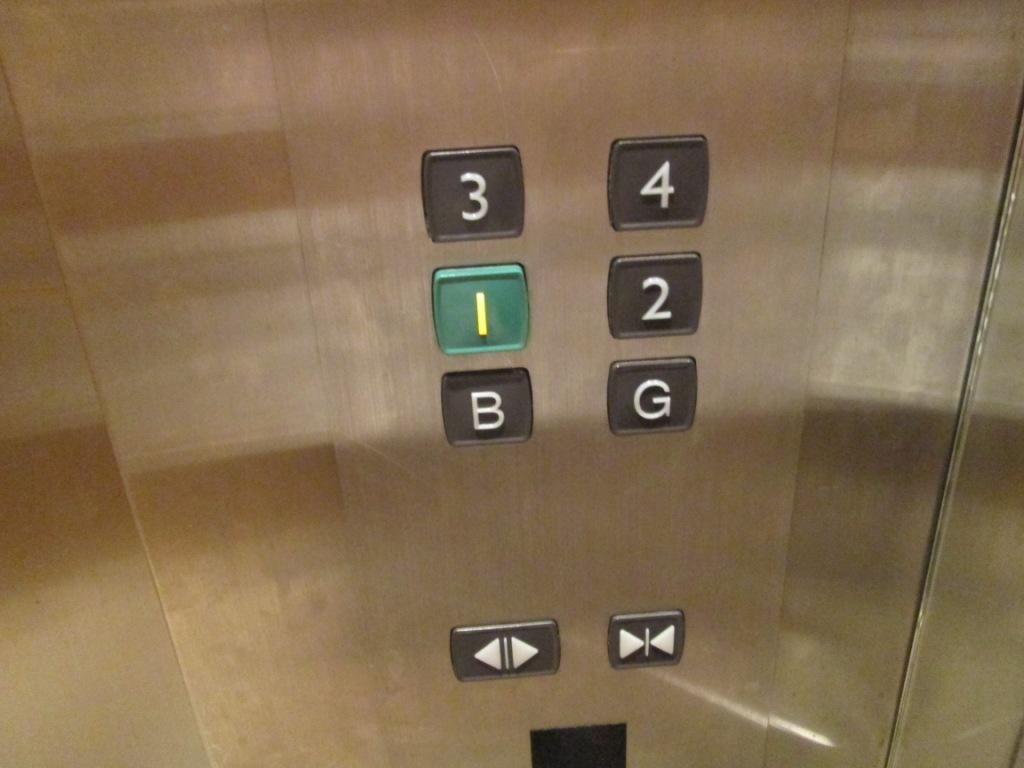1: (428, 259, 534, 356)
2: (602, 245, 708, 342)
3: (420, 147, 525, 243)
4: (603, 128, 717, 235)
B: (438, 366, 537, 445)
G: (603, 351, 704, 436)
close: (605, 607, 689, 674)
open: (447, 613, 566, 682)
